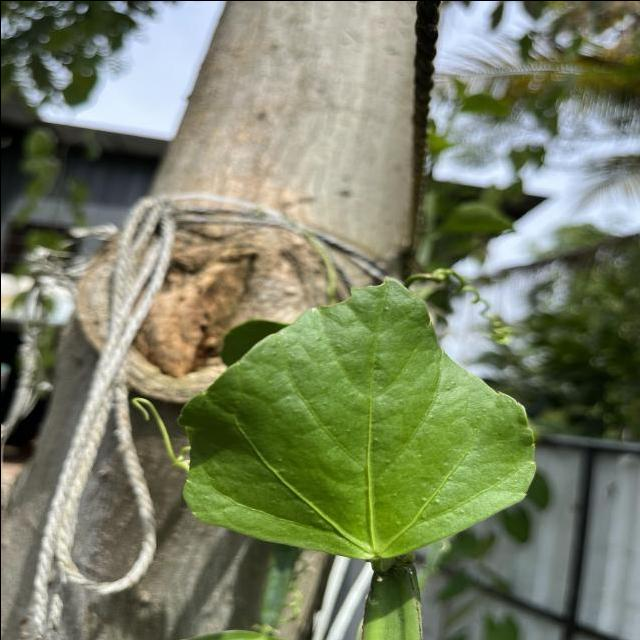Cissus quadrangularis: (168, 271, 542, 564)
